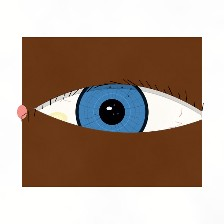pinguecula_lesion: (37, 102, 78, 135)
